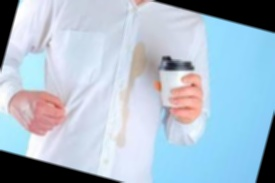coffee: (105, 40, 152, 150)
